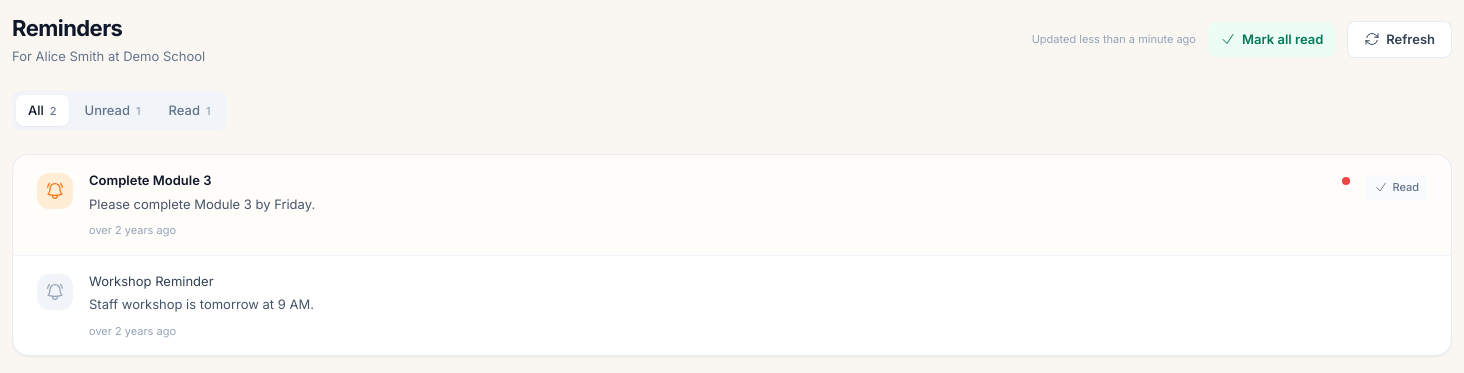
Scenario: RemindersPage › READ filter shows only read reminders
This screenshot has width=1464, height=373.
Check: the text "Complete Module 3" is shown, box [89, 171, 212, 190]
Click the button "Read1": x=190, y=110 [156, 94, 222, 126]
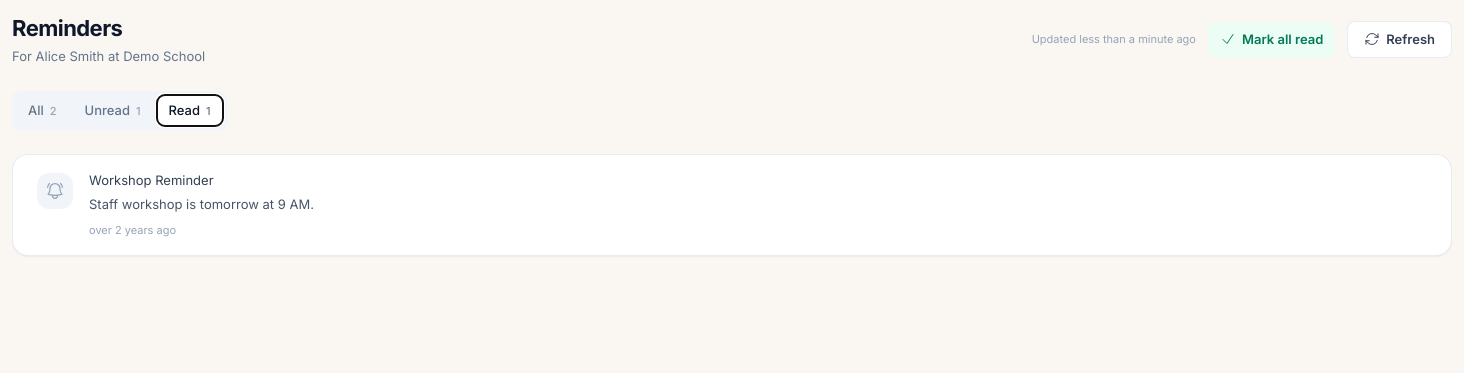
Check: the text "Workshop Reminder" is shown, box [89, 171, 214, 190]
Check: the button "Complete Module 3" is gone
